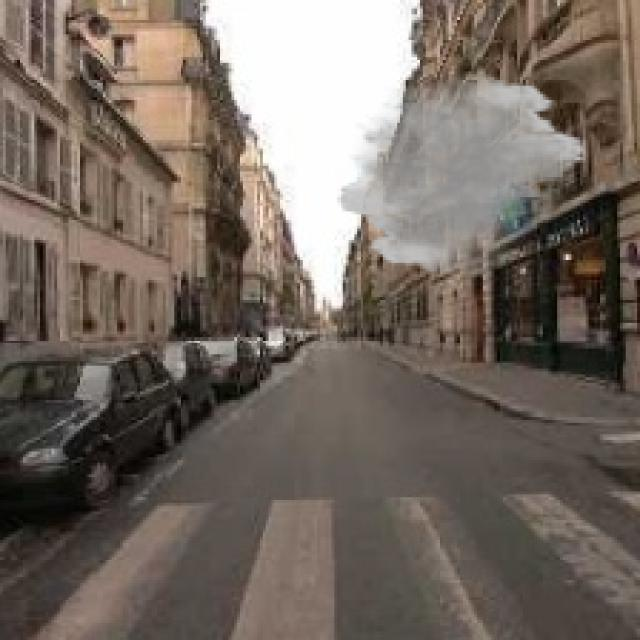smoke: (334, 72, 589, 277)
